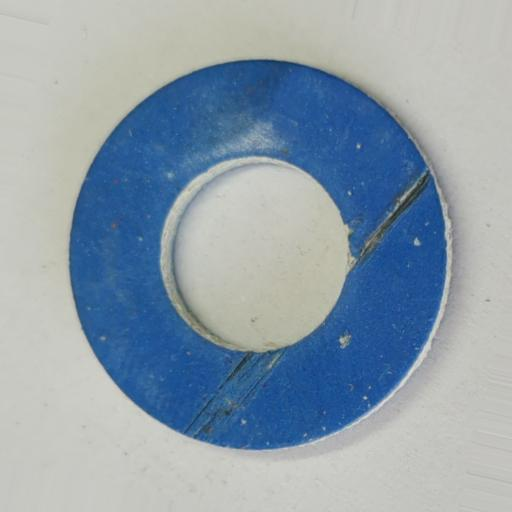defect: (184, 345, 289, 442), (347, 168, 432, 273)
